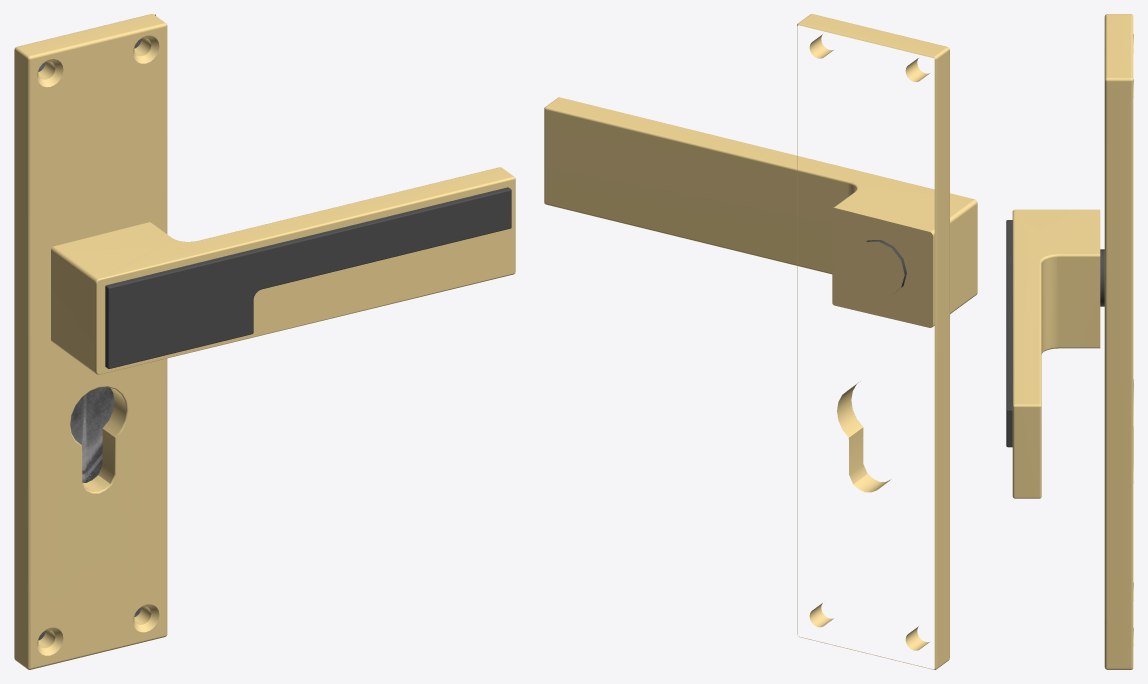
The model's file is door_test_file.glb.
3 renders of one model, left to right at view 1: azimuth 30°, elevation 25°; view 2: azimuth 150°, elevation 25°; view 3: azimuth 270°, elevation 25°, orthographic. The views are drawn at different scales.
Parts seen in each view (by area): view 1: pCube20, pCube2, pCube3, pCube22; view 2: pCube2, pCube20; view 3: pCube20, pCube2, pCube3, pCylinder1.
Boxes of the visible parts, box(x1,y1,x2,y2) form: pCube20: box(14, 14, 167, 669); pCube2: box(51, 167, 515, 374); pCube3: box(105, 187, 511, 368); pCube22: box(38, 14, 155, 640); pCube2: box(544, 97, 977, 327); pCube20: box(797, 14, 949, 669); pCube20: box(1104, 14, 1133, 669); pCube2: box(1012, 209, 1100, 498); pCube3: box(1006, 220, 1012, 447); pCylinder1: box(1100, 249, 1104, 306).
Size of the model in its own units: 158 by 211 by 41.07.
3 materials, 3 textured.
